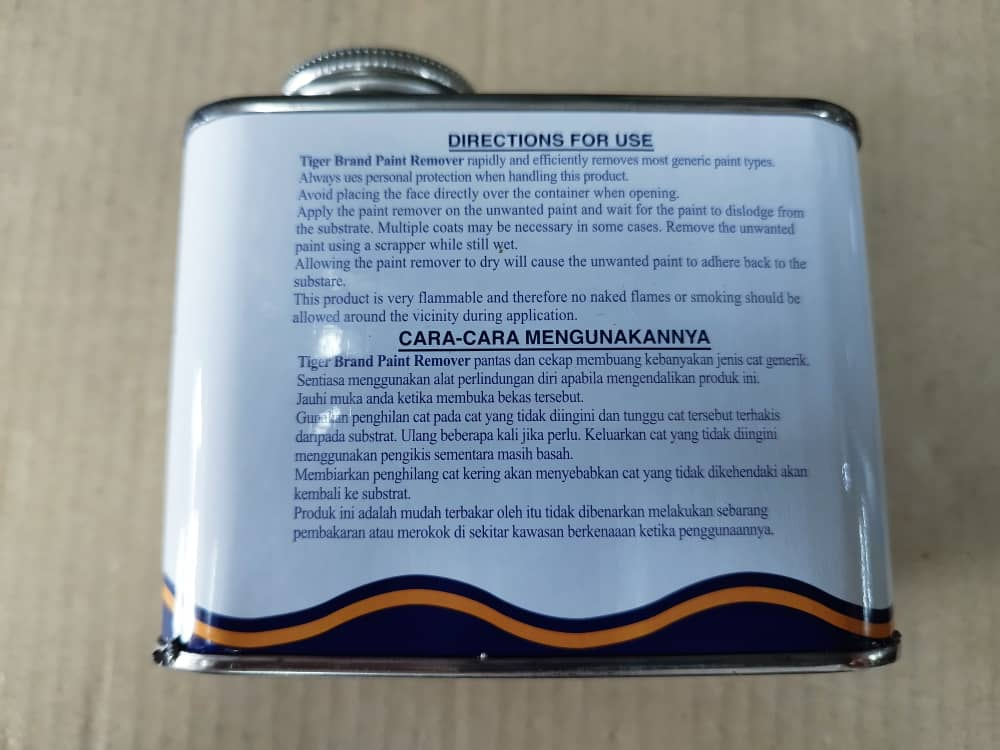sku_glue: (174, 52, 915, 693)
